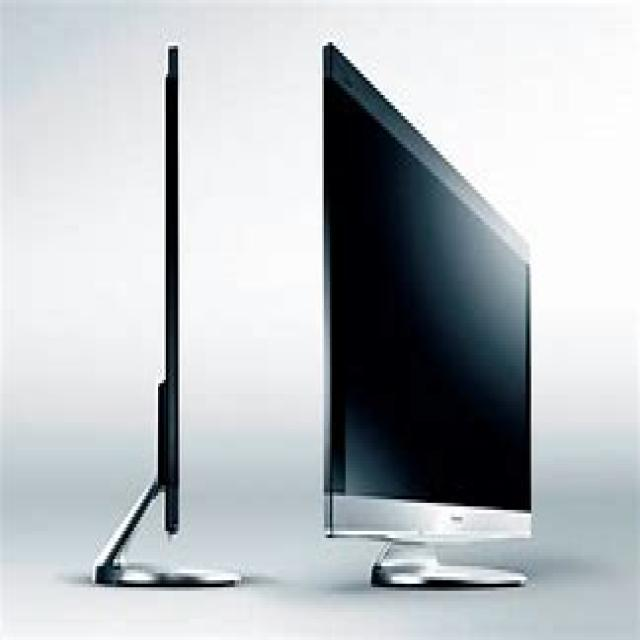tv: (320, 39, 533, 587)
